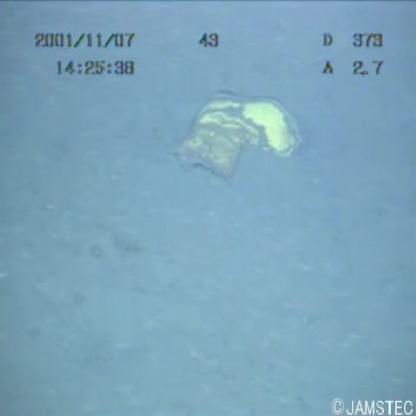Rác: (159, 78, 312, 196)
